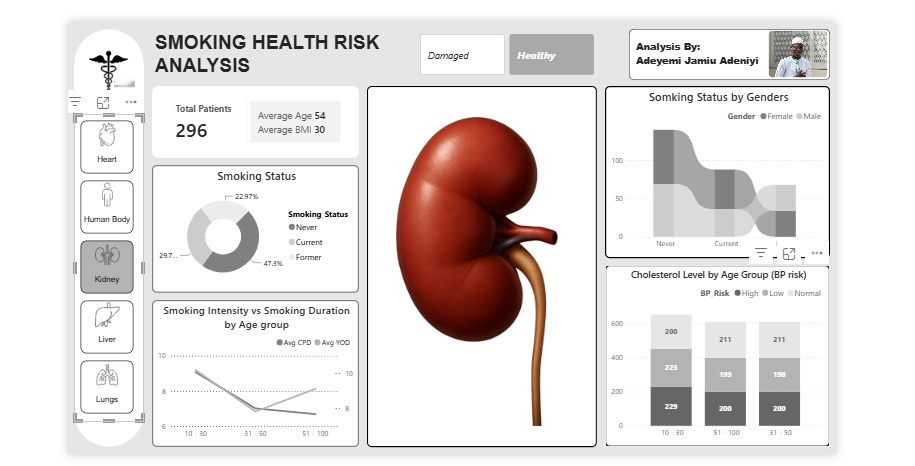

The dashboard page shown, as its layout file describes it:
{"tool":"powerbi","page":{"name":"Page 1","canvas":[1280,720],"ordinal":0},"visuals":[{"type":"shape","box":[10,11.7,116.7,696.7],"z":0},{"type":"shape","box":[140,106.7,345,120],"z":1000},{"type":"advancedSlicerVisual","fields":{"Values":["condition.Organ_Condition"]},"box":[581.7,15,300,78.3],"z":2000},{"type":"image","box":[498.3,106.7,383.3,601.7],"z":3000},{"type":"ChicletSlicer1448559807354","fields":{"Category":["Organs.Organ"],"Image":["Organs.Icon_URL"]},"box":[10.1,154.1,116.6,512.6],"z":4000},{"type":"cardVisual","fields":{"Data":["Count(health_dataset.Patient_ID)"]},"box":[150,110,326.7,113.3],"z":5000},{"type":"donutChart","title":"Smoking Status","fields":{"Category":["health_dataset.Smoking_Status"],"Y":["CountNonNull(health_dataset.Smoking_Status)"]},"box":[140,238.3,345,213.3],"z":6000},{"type":"lineChart","title":"Smoking Intensity vs Smoking Duration by Age group","fields":{"Category":["health_dataset.Age groups"],"Y":["Avg(health_dataset.Cigarettes_Per_Day)"],"Y2":["Avg(health_dataset.Years_of_Smoking)"]},"box":[140,463.3,345,245],"z":7000},{"type":"ribbonChart","title":"Somking Status by Genders","fields":{"Category":["health_dataset.Smoking_Status"],"Series":["health_dataset.Gender"],"Y":["CountNonNull(health_dataset.Gender)"]},"box":[895,106.7,375,286.7],"z":8000},{"type":"columnChart","title":"Cholesterol Level by Age Group (BP risk)","fields":{"Series":["health_dataset.BP_Risk"],"Category":["health_dataset.Age groups"],"Y":["Avg(health_dataset.Cholesterol_Level)"]},"box":[895,405,375,303.3],"z":9000},{"type":"image","box":[23.3,38.3,88.3,93.3],"z":10000},{"type":"textbox","box":[140,11.7,403.3,85],"z":11000},{"type":"shape","box":[935,11.7,335,85],"z":11500},{"type":"image","box":[1166,14,100,80],"z":12000},{"type":"textbox","box":[942,23.3,218.3,61.7],"z":14000}]}

Visuals, with their boxes on the page's 1280x720 design canvas (x1, y1, x2, y2). These are canvas units, not pixel positions in the 915x466 screenshot, which may show the page scaled, cropped or inside an application window:
shape: pyautogui.locateOnScreen(10, 12, 127, 708)
shape: pyautogui.locateOnScreen(140, 107, 485, 227)
advancedSlicerVisual - condition.Organ_Condition: pyautogui.locateOnScreen(582, 15, 882, 93)
image: pyautogui.locateOnScreen(498, 107, 882, 708)
ChicletSlicer1448559807354 - Organs.Organ x Organs.Icon_URL: pyautogui.locateOnScreen(10, 154, 127, 667)
cardVisual - Count(health_dataset.Patient_ID): pyautogui.locateOnScreen(150, 110, 477, 223)
"Smoking Status" donutChart: pyautogui.locateOnScreen(140, 238, 485, 452)
"Smoking Intensity vs Smoking Duration by Age group" lineChart: pyautogui.locateOnScreen(140, 463, 485, 708)
"Somking Status by Genders" ribbonChart: pyautogui.locateOnScreen(895, 107, 1270, 393)
"Cholesterol Level by Age Group (BP risk)" columnChart: pyautogui.locateOnScreen(895, 405, 1270, 708)
image: pyautogui.locateOnScreen(23, 38, 112, 132)
textbox: pyautogui.locateOnScreen(140, 12, 543, 97)
shape: pyautogui.locateOnScreen(935, 12, 1270, 97)
image: pyautogui.locateOnScreen(1166, 14, 1266, 94)
textbox: pyautogui.locateOnScreen(942, 23, 1160, 85)
